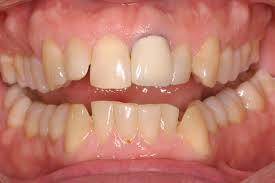Calculus: (178, 102, 214, 155), (39, 38, 70, 90), (65, 103, 93, 152), (194, 34, 221, 84)
